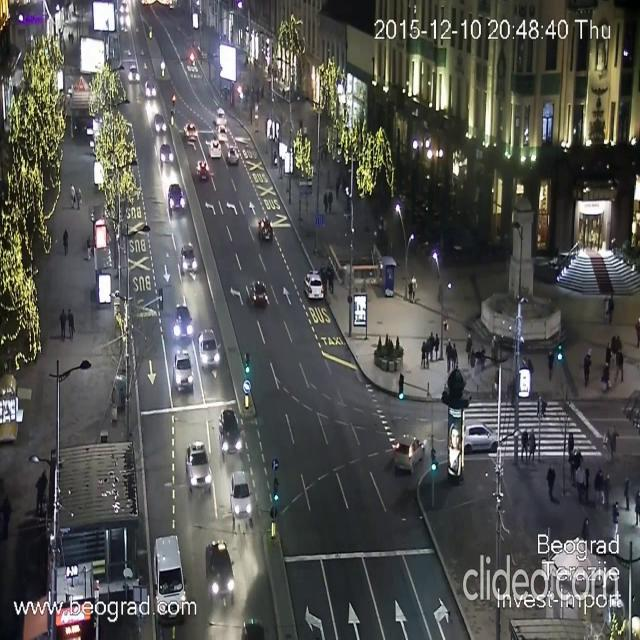car: (154, 540, 186, 622), (204, 539, 234, 607), (392, 434, 426, 474), (463, 423, 499, 454), (230, 471, 250, 523), (186, 444, 208, 486), (174, 352, 194, 392), (221, 412, 240, 452), (174, 307, 194, 342), (200, 331, 218, 369), (246, 279, 269, 307), (166, 180, 186, 212), (303, 270, 324, 300), (182, 242, 198, 268), (258, 216, 272, 241), (217, 125, 232, 146), (197, 162, 210, 185), (127, 62, 139, 84), (153, 112, 166, 132), (225, 146, 239, 164), (185, 122, 197, 143), (160, 142, 173, 161), (212, 141, 222, 162), (217, 110, 226, 129), (145, 84, 155, 98)
